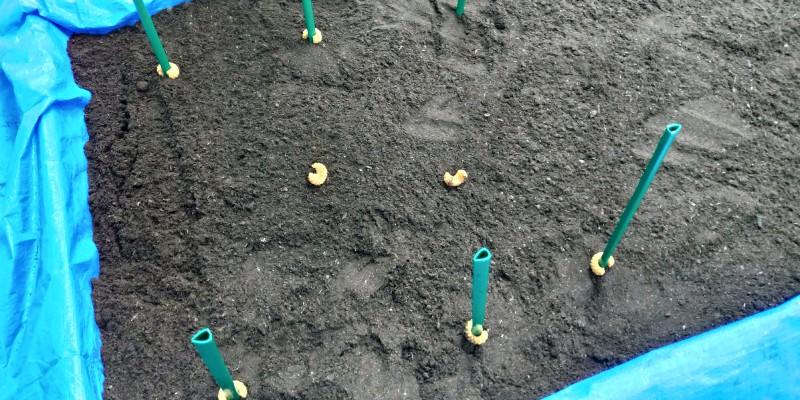eggs: (304, 159, 335, 189), (589, 247, 616, 281), (465, 315, 490, 351), (152, 55, 182, 82), (210, 380, 250, 400), (439, 163, 469, 189), (298, 26, 326, 46)
